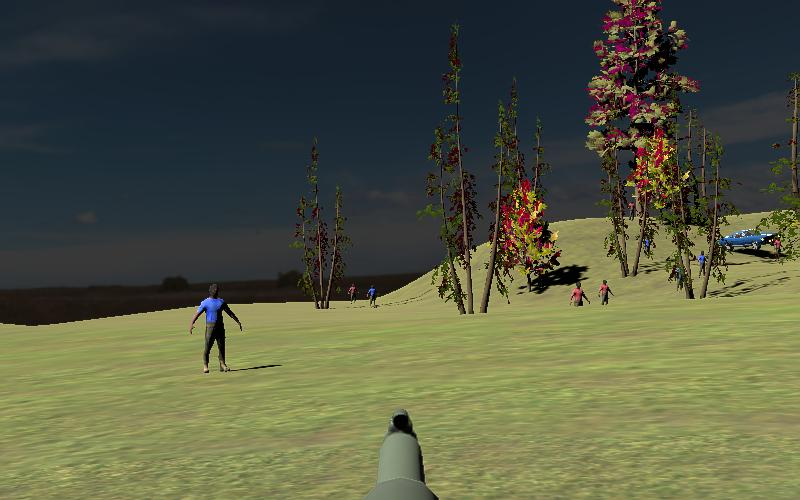Human: (189, 282, 243, 374), (570, 281, 590, 320)
car: (715, 228, 780, 252)
